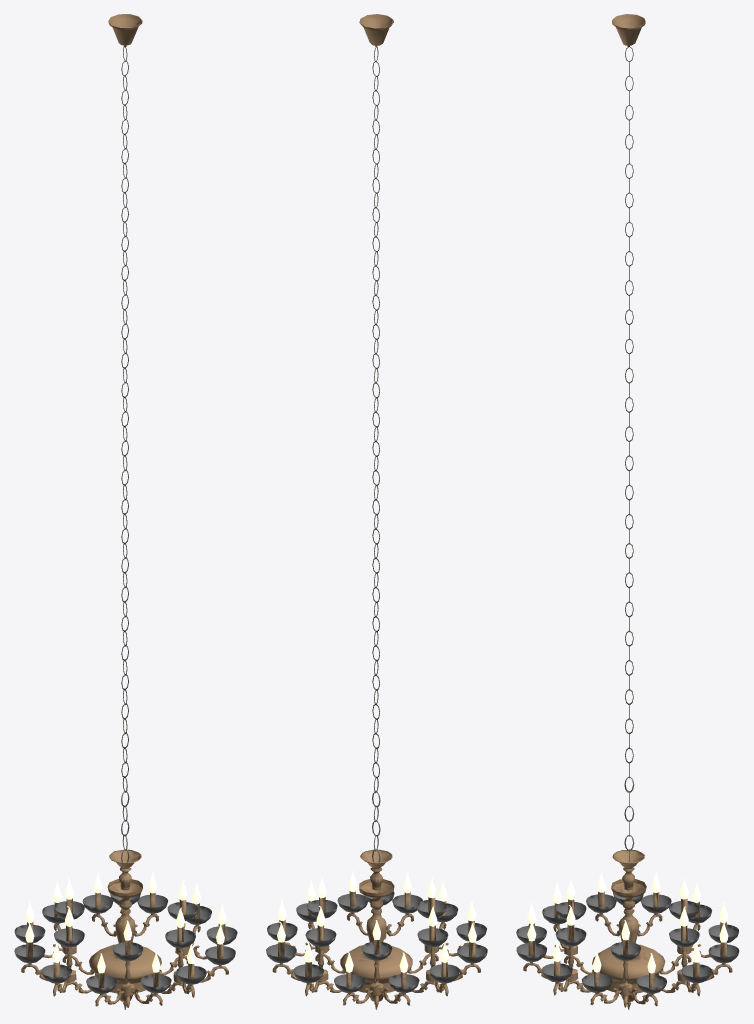
The model's file is hall-chandelier-proof.glb.
The picture shows the model from 3 angles, left to right: view 1: azimuth 30°, elevation 25°; view 2: azimuth 150°, elevation 25°; view 3: azimuth 270°, elevation 25°; orthographic projection.
Parts seen in each view (by area): view 1: hall_chandelier_body, hall_chandelier_support_west, hall_chandelier_support_east; view 2: hall_chandelier_body, hall_chandelier_support_west, hall_chandelier_support_east; view 3: hall_chandelier_body, hall_chandelier_support_west, hall_chandelier_support_east.
Boxes of the visible parts, <box> form: hall_chandelier_body: <box>14,849,237,1009</box>; hall_chandelier_support_west: <box>108,14,142,862</box>; hall_chandelier_support_east: <box>121,46,128,862</box>; hall_chandelier_body: <box>266,849,487,1009</box>; hall_chandelier_support_west: <box>359,14,393,862</box>; hall_chandelier_support_east: <box>372,47,379,862</box>; hall_chandelier_body: <box>516,849,739,1009</box>; hall_chandelier_support_west: <box>612,14,645,862</box>; hall_chandelier_support_east: <box>625,47,633,849</box>.
Size of the model in its own units: 0.781 by 3.84 by 0.7854.
6 materials, 2 textured.
